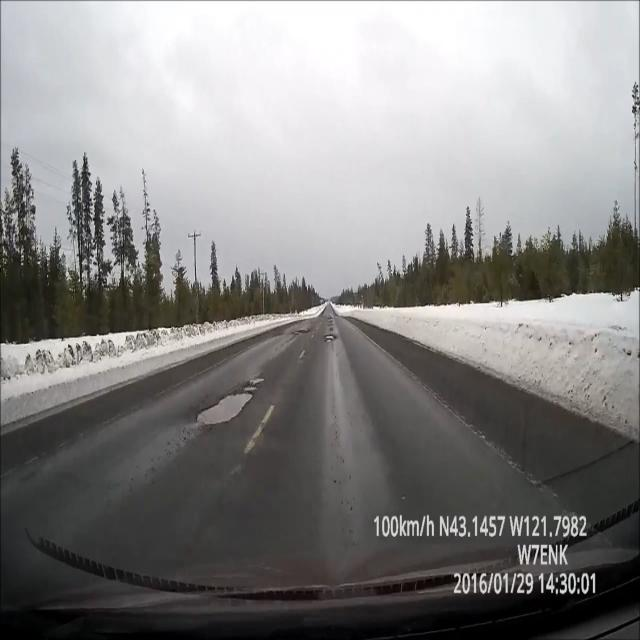Pothole: (188, 371, 276, 433), (323, 317, 343, 350)
